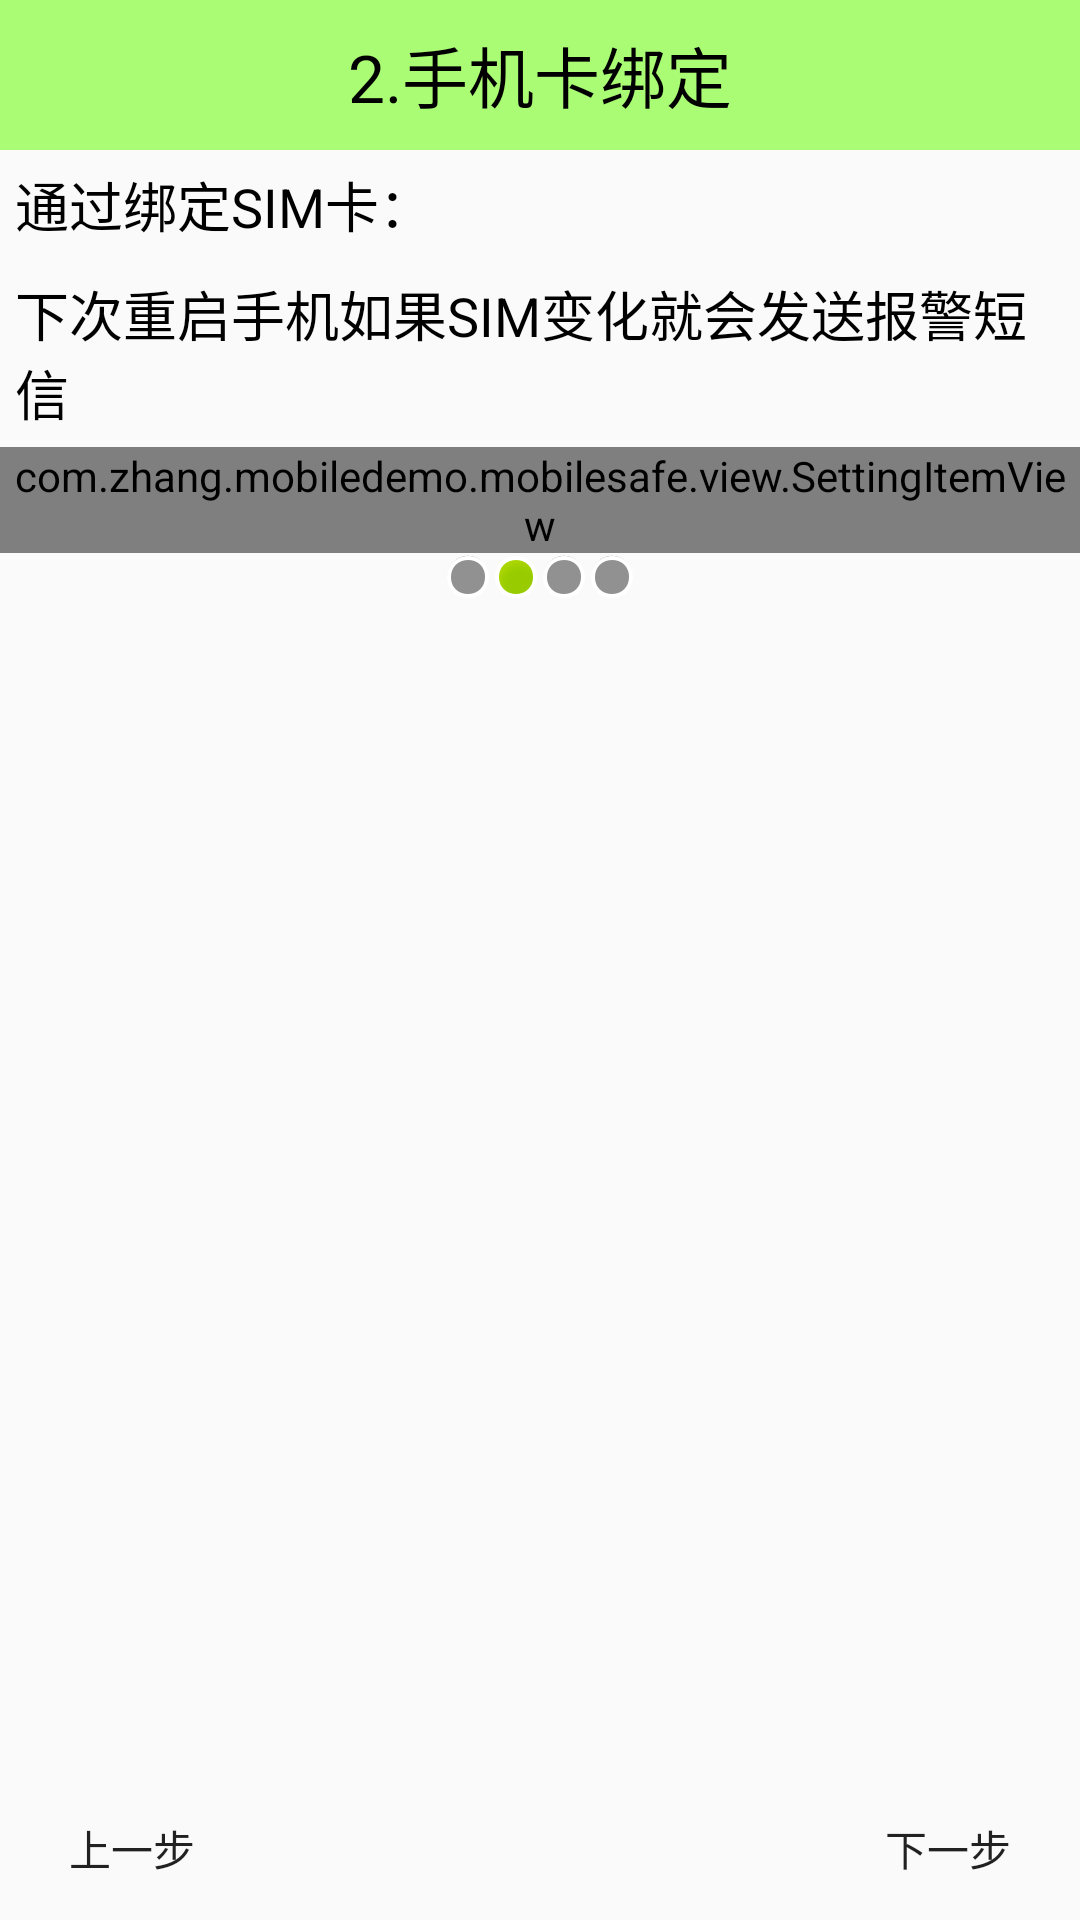

Icons on this 1080px x 1920px Android screen, each with its box as bbox(x1, y1, x2, y2):
presence invisible: bbox(451, 556, 485, 594), bbox(547, 556, 581, 594), bbox(595, 556, 629, 594)
presence online: bbox(499, 560, 533, 594)
